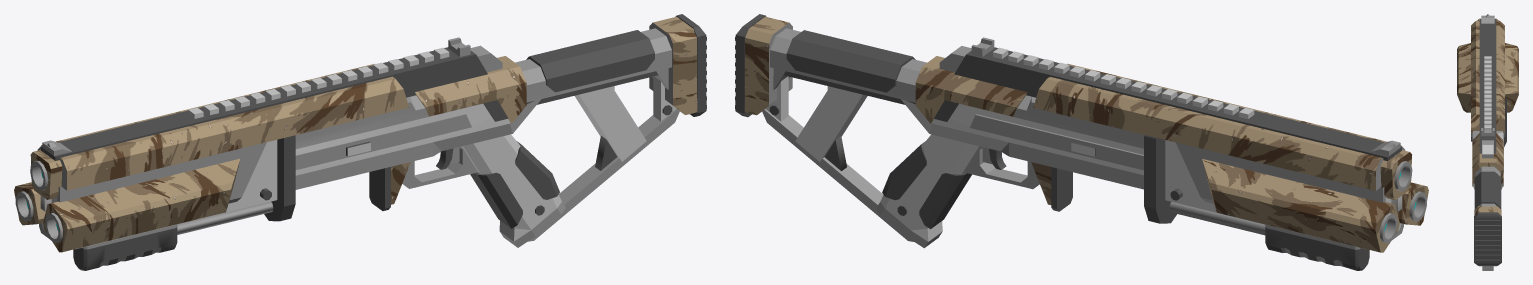
The model's file is SM_SHA1.fbx.
3 views of the same model, side by side, from view 1: azimuth 30°, elevation 25°; view 2: azimuth 150°, elevation 25°; view 3: azimuth 270°, elevation 25° (orthographic). The views are drawn at different scales.
Visible parts, largest first — view 1: SM_SHA1, SM_Grip_1; view 2: SM_SHA1, SM_Grip_1; view 3: SM_SHA1.
Boxes of the visible parts, <box> form: SM_SHA1: <box>14,14,706,252</box>; SM_Grip_1: <box>73,224,177,270</box>; SM_SHA1: <box>735,14,1428,252</box>; SM_Grip_1: <box>1265,225,1369,270</box>; SM_SHA1: <box>1457,14,1518,270</box>.
Size of the model in its own units: 68.9 by 21.26 by 9.72.
